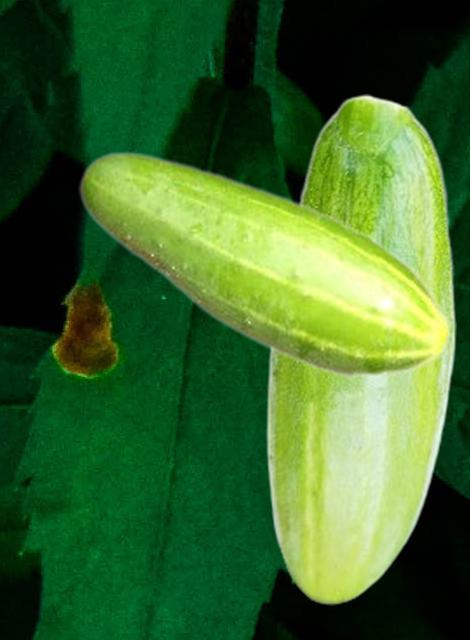cucumber: (265, 94, 455, 604), (78, 150, 452, 380)
